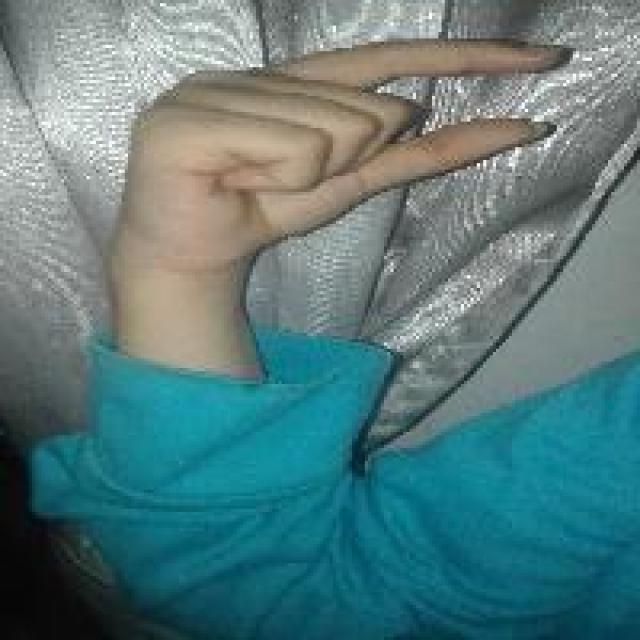G: (102, 30, 580, 252)
